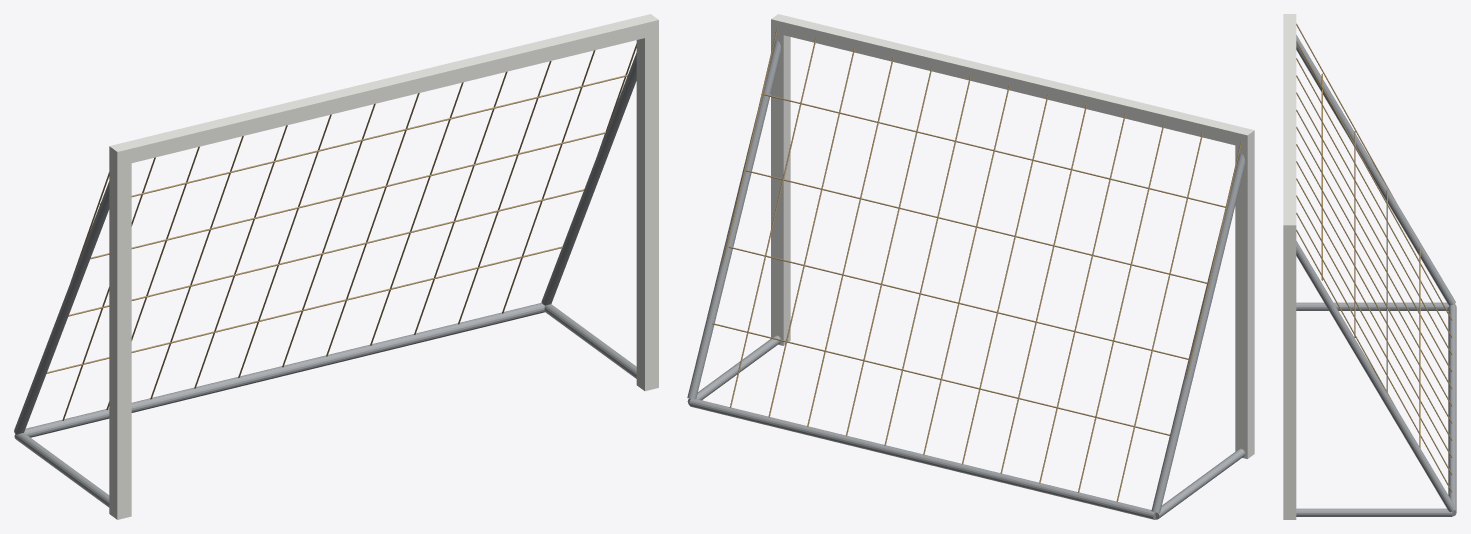
3 views of the same model, side by side, from view 1: azimuth 30°, elevation 25°; view 2: azimuth 150°, elevation 25°; view 3: azimuth 270°, elevation 25° (orthographic). The views are drawn at different scales.
Visible parts, largest first — view 1: baseOffset=0;depth=1;height=2;material=steel_galv;power=;ser (×3); view 2: baseOffset=0;depth=1;height=2;material=steel_galv;power=;ser (×3); view 3: baseOffset=0;depth=1;height=2;material=steel_galv;power=;ser (×3).
Part boxes in pixels (x1=…): baseOffset=0;depth=1;height=2;material=steel_galv;power=;ser (×3): x1=14, y1=14, x2=658, y2=519; baseOffset=0;depth=1;height=2;material=steel_galv;power=;ser (×3): x1=687, y1=14, x2=1254, y2=519; baseOffset=0;depth=1;height=2;material=steel_galv;power=;ser (×3): x1=1283, y1=14, x2=1456, y2=519.
Bounding box in the file's own units: 3.08 × 1.06 × 2.
